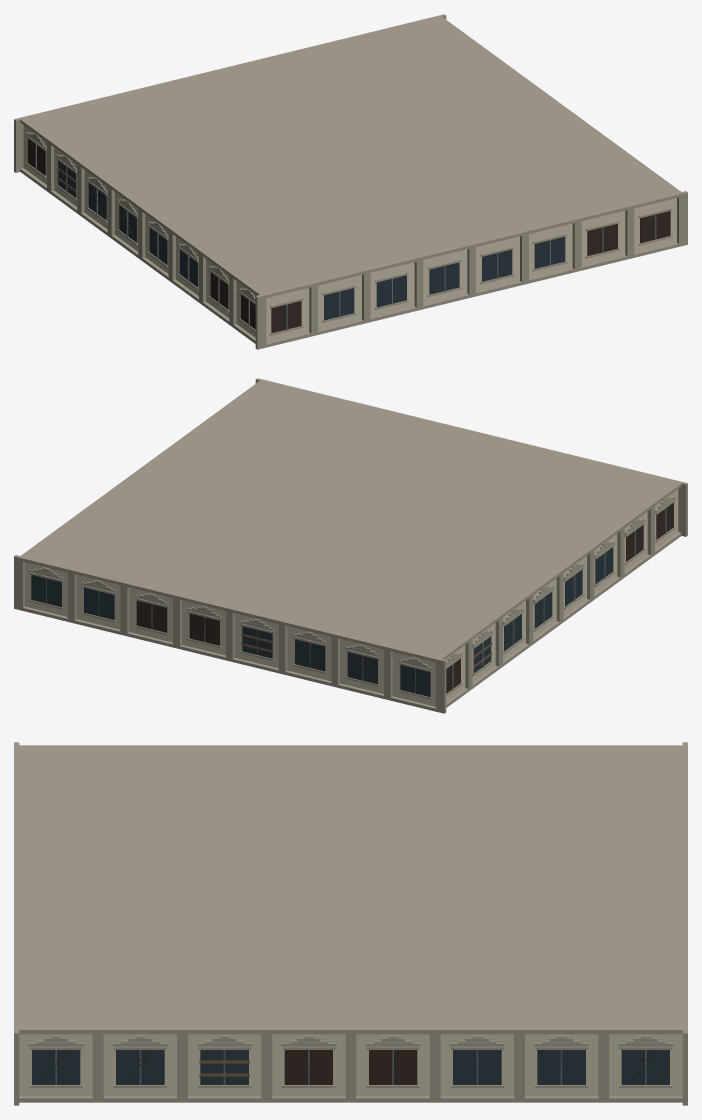
File: tw_deco_32_floor.glb
3 renders of one model, top to bottom at view 1: azimuth 30°, elevation 25°; view 2: azimuth 150°, elevation 25°; view 3: azimuth 270°, elevation 25°, orthographic. The views are drawn at different scales.
Parts seen in each view (by area): view 1: tw_deco_32_floor; view 2: tw_deco_32_floor; view 3: tw_deco_32_floor.
Boxes of the visible parts, x1,y1,x2,y2 form: tw_deco_32_floor: (14, 14, 687, 349); tw_deco_32_floor: (14, 378, 687, 713); tw_deco_32_floor: (14, 742, 687, 1105).
Bounding box in the file's own units: 32.68 × 3.8 × 32.
Materials: 2 (2 with a texture image).
